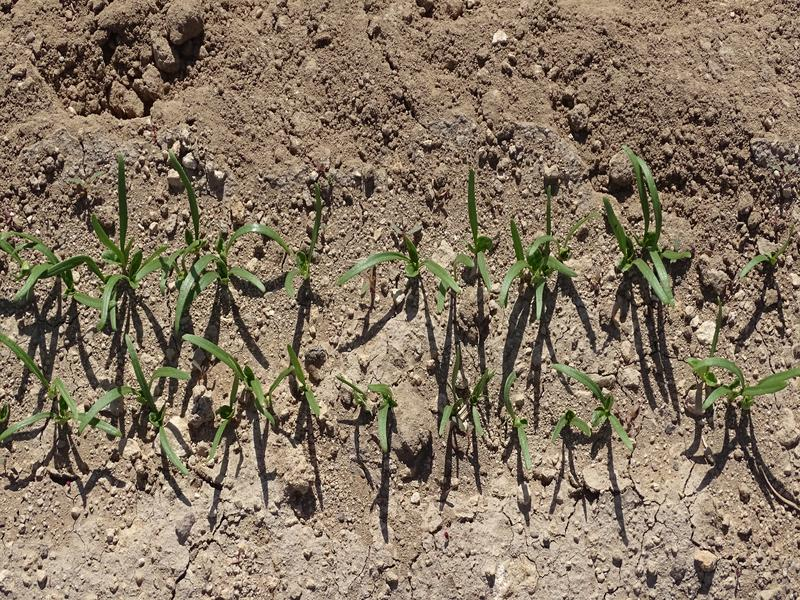Espinaca: (1, 180, 325, 318), (1, 332, 319, 464), (339, 177, 585, 308), (435, 363, 631, 470), (600, 151, 683, 301), (683, 347, 793, 414), (347, 373, 397, 448), (741, 233, 789, 285)
